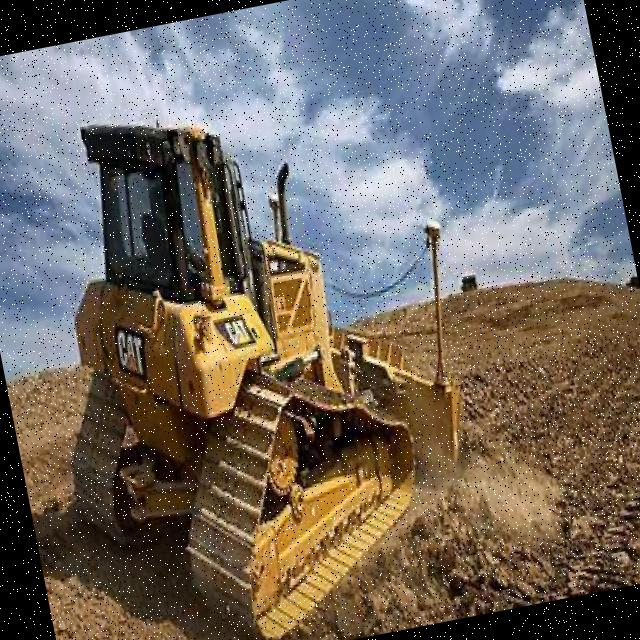Bulldozer: (0, 32, 542, 640)
